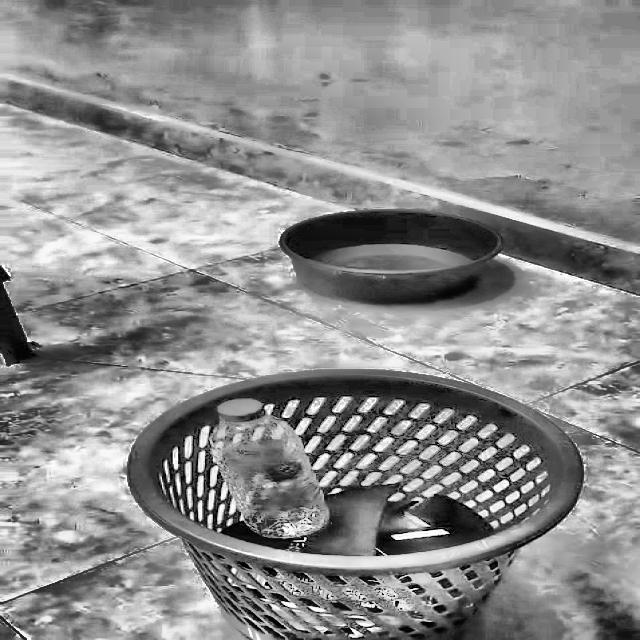Bottle-Disposed: (110, 384, 594, 552)
Plastic-Bottle: (188, 397, 344, 548)
